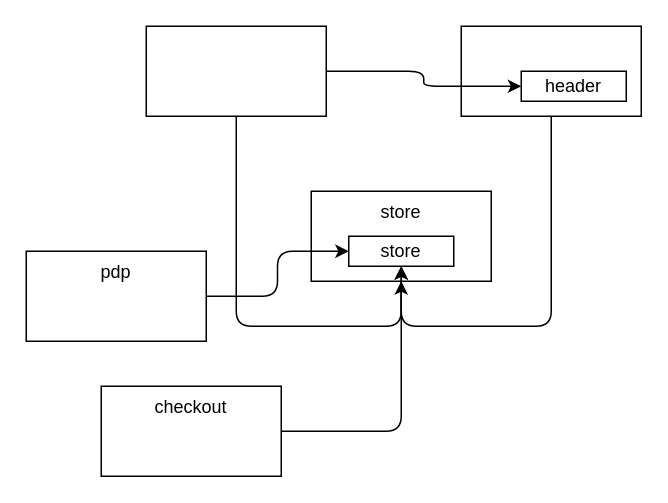
The diagram is 668 pixels wide and 503 high, and some of its shapes have lost their labels. The shapes that lost their labels are listed below. From the top down, each one's box as (x1, y1, x2, y2) in pixels, then its label:
(145, 25, 326, 116): host
(460, 25, 641, 116): nav
